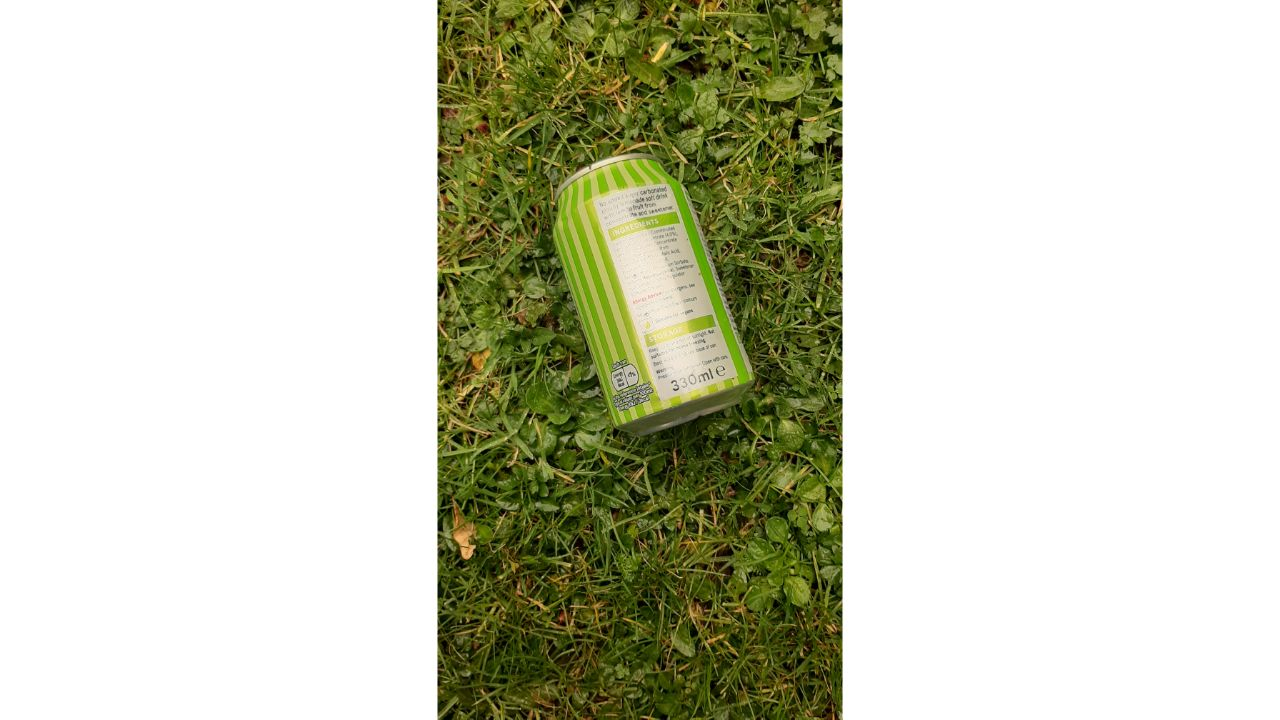Can: (528, 139, 784, 449)
